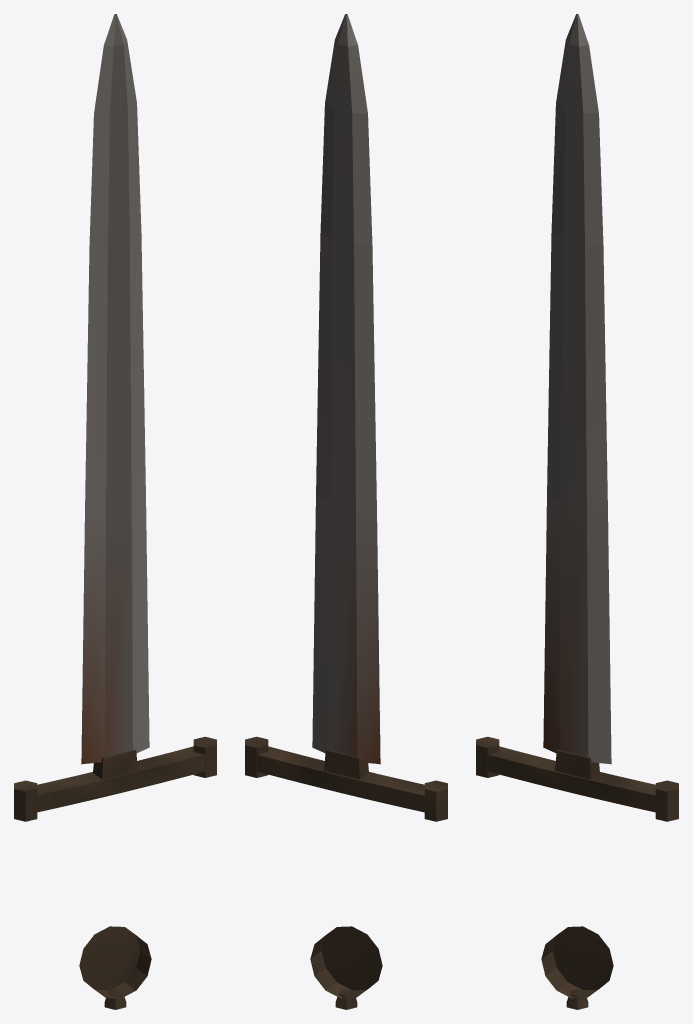
Rendered from sword_rusty.glb.
3 renders of one model, left to right at view 1: azimuth 30°, elevation 25°; view 2: azimuth 150°, elevation 25°; view 3: azimuth 330°, elevation 25°, orthographic.
Parts seen in each view (by area): view 1: sword_rusty; view 2: sword_rusty; view 3: sword_rusty.
Part boxes in pixels (x1,y1,x2,y2): sword_rusty: (14, 14, 216, 1009); sword_rusty: (245, 14, 447, 1009); sword_rusty: (476, 14, 678, 1009).
Bounding box in the file's own units: 0.226 × 1.05 × 0.0225.
